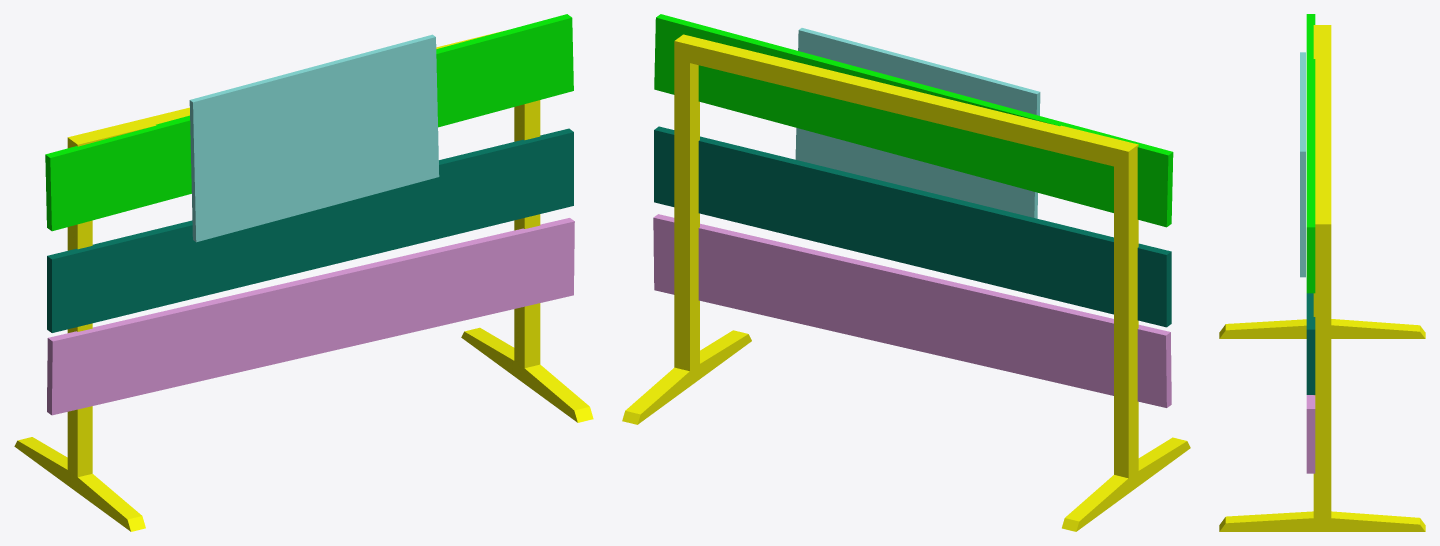
Rendered from SM_Barriere_02.fbx.
3 views of the same model, side by side, from view 1: azimuth 30°, elevation 25°; view 2: azimuth 150°, elevation 25°; view 3: azimuth 270°, elevation 25° (orthographic). The views are drawn at different scales.
Parts seen in each view (by area): view 1: SM_Barriere_02; view 2: SM_Barriere_02; view 3: SM_Barriere_02.
Part boxes in pixels (<box>): SM_Barriere_02: <box>14,14,593,531</box>; SM_Barriere_02: <box>622,14,1190,531</box>; SM_Barriere_02: <box>1219,14,1425,531</box>.
Bounding box in the file's own units: 1 × 0.6882 × 0.3873.
